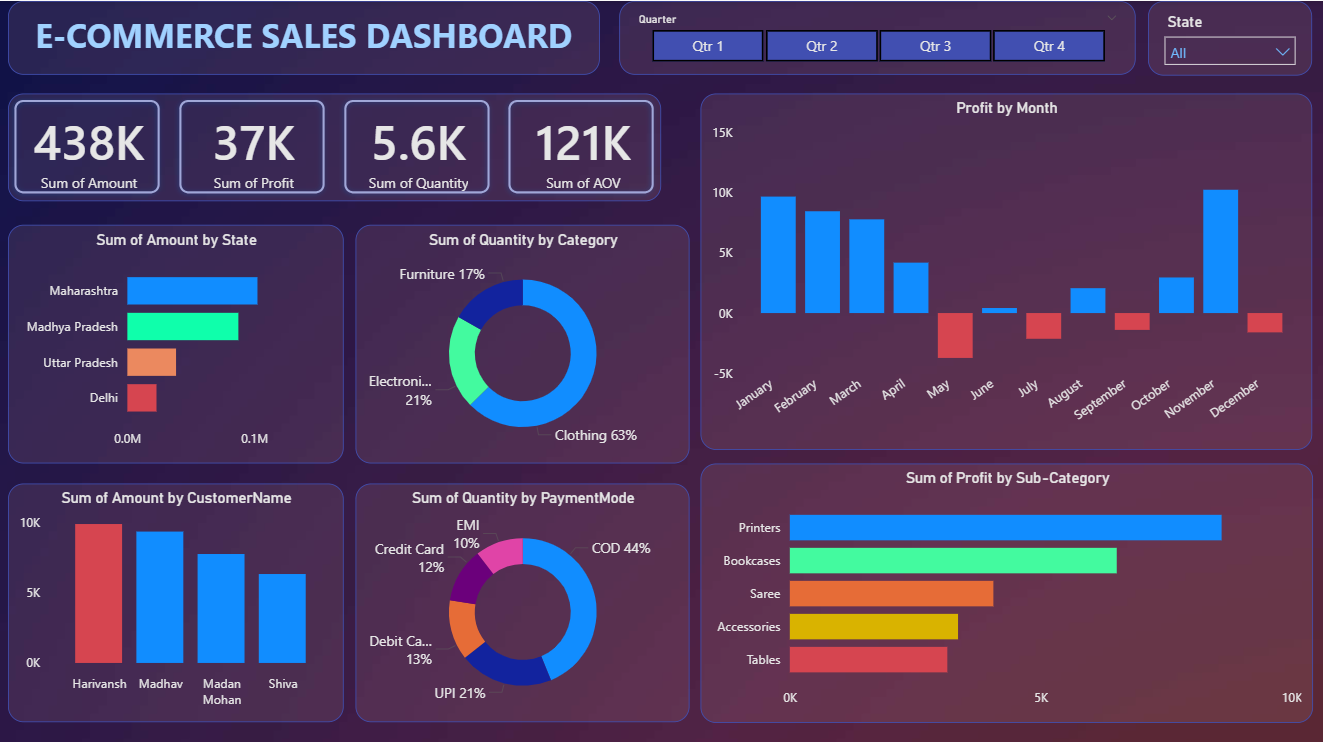

This screenshot's page, from the dashboard's own definition file:
{"tool":"powerbi","page":{"name":"Page 1","canvas":[1280,720],"ordinal":0},"visuals":[{"type":"textbox","box":[10,0,571.2,71.2],"z":0},{"type":"columnChart","title":"Profit by Month","fields":{"Category":["Order.Order Date.Variation.Date Hierarchy.Month"],"Y":["Sum(Detail.Profit)"]},"box":[677.5,88.8,590,343.8],"z":1000},{"type":"barChart","fields":{"Category":["Detail.Sub-Category"],"Y":["Sum(Detail.Profit)"]},"box":[677.5,446.2,591.2,250],"z":2000},{"type":"donutChart","fields":{"Category":["Detail.Category"],"Y":["Sum(Detail.Quantity)"]},"box":[345,216.2,322.5,230],"z":3000},{"type":"donutChart","fields":{"Y":["Sum(Detail.Quantity)"],"Category":["Detail.PaymentMode"]},"box":[345,466.2,322.5,230],"z":4000},{"type":"cardVisual","fields":{"Data":["Sum(Detail.Amount)","Sum(Detail.Profit)","Sum(Detail.Quantity)","Sum(Detail.AOV)"]},"box":[10,88.8,630,103.8],"z":5000},{"type":"barChart","fields":{"Category":["Order.State"],"Y":["Sum(Detail.Amount)"]},"box":[10,216.2,323.8,230],"z":6000},{"type":"columnChart","title":"Sum of Amount by CustomerName","fields":{"Category":["Order.CustomerName"],"Y":["Sum(Detail.Amount)"]},"box":[10,466.2,323.8,230],"z":7000},{"type":"slicer","fields":{"Values":["Order.Order Date.Variation.Date Hierarchy.Quarter"]},"box":[600,0,498.8,71.2],"z":8000},{"type":"slicer","fields":{"Values":["Order.State"]},"box":[1110,0,158.2,71.8],"z":9000}]}

Visuals, with their boxes in screenshot pixels (x1, y1, x2, y2), scaled from the page's 1280x720 canvas onto the 1323x742 screenshot:
textbox: <box>10,0,601,73</box>
"Profit by Month" columnChart: <box>700,92,1310,446</box>
barChart - Detail.Sub-Category x Sum(Detail.Profit): <box>700,460,1311,717</box>
donutChart - Detail.Category x Sum(Detail.Quantity): <box>357,223,690,460</box>
donutChart - Sum(Detail.Quantity) x Detail.PaymentMode: <box>357,480,690,717</box>
cardVisual - Sum(Detail.Amount) x Sum(Detail.Profit): <box>10,92,662,198</box>
barChart - Order.State x Sum(Detail.Amount): <box>10,223,345,460</box>
"Sum of Amount by CustomerName" columnChart: <box>10,480,345,717</box>
slicer - Order.Order Date.Variation.Date Hierarchy.Quarter: <box>620,0,1136,73</box>
slicer - Order.State: <box>1147,0,1311,74</box>
